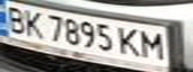5: (93, 21, 118, 54)
7: (42, 12, 66, 43)
8: (60, 16, 81, 47)
9: (78, 19, 100, 49)
B: (0, 3, 30, 34)
K: (115, 25, 142, 58), (18, 8, 45, 38)
M: (136, 28, 169, 61)
